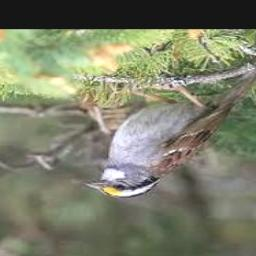Sparrow: (85, 64, 256, 199)
